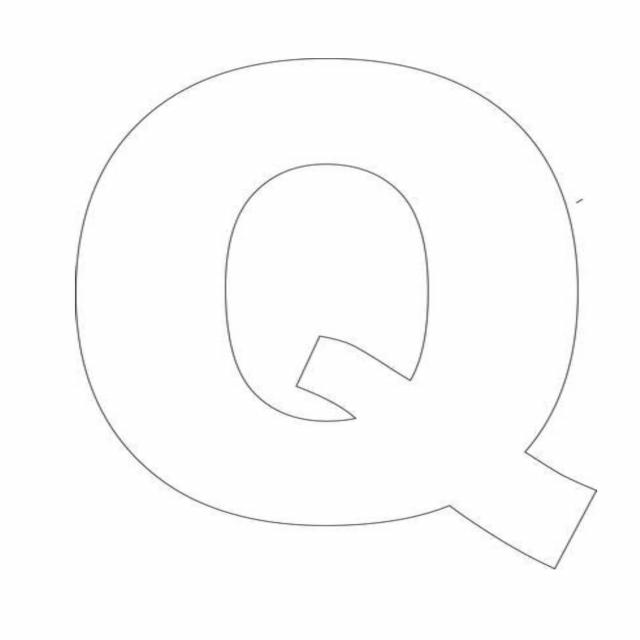Q: (45, 28, 611, 586)
